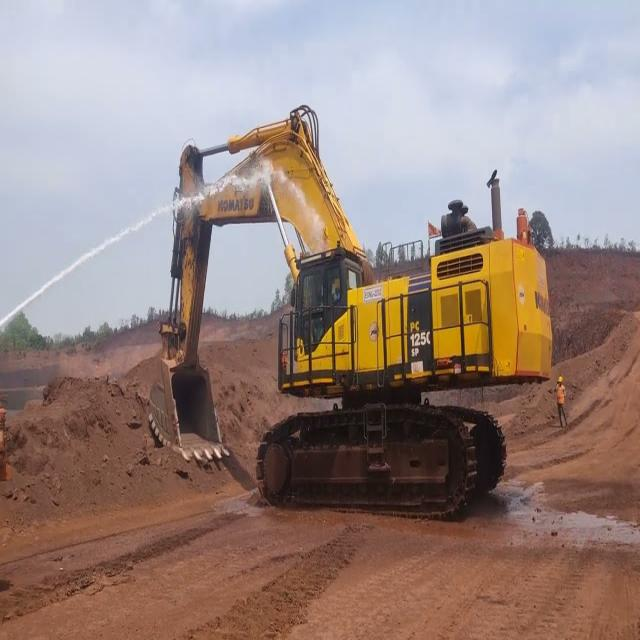excavator: (139, 98, 553, 522)
